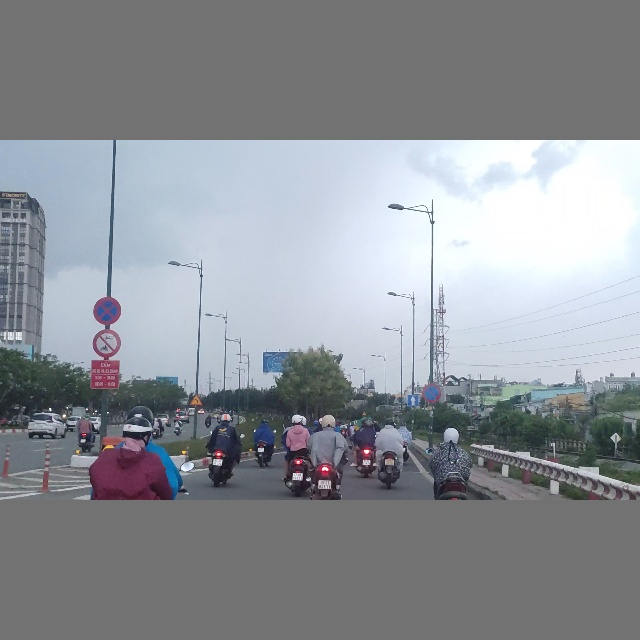I.407a: (407, 395, 419, 406)
P.111: (92, 329, 121, 357)
P.130: (93, 297, 121, 324)
P.131a: (422, 384, 441, 402)
W.201a: (190, 394, 203, 406)
